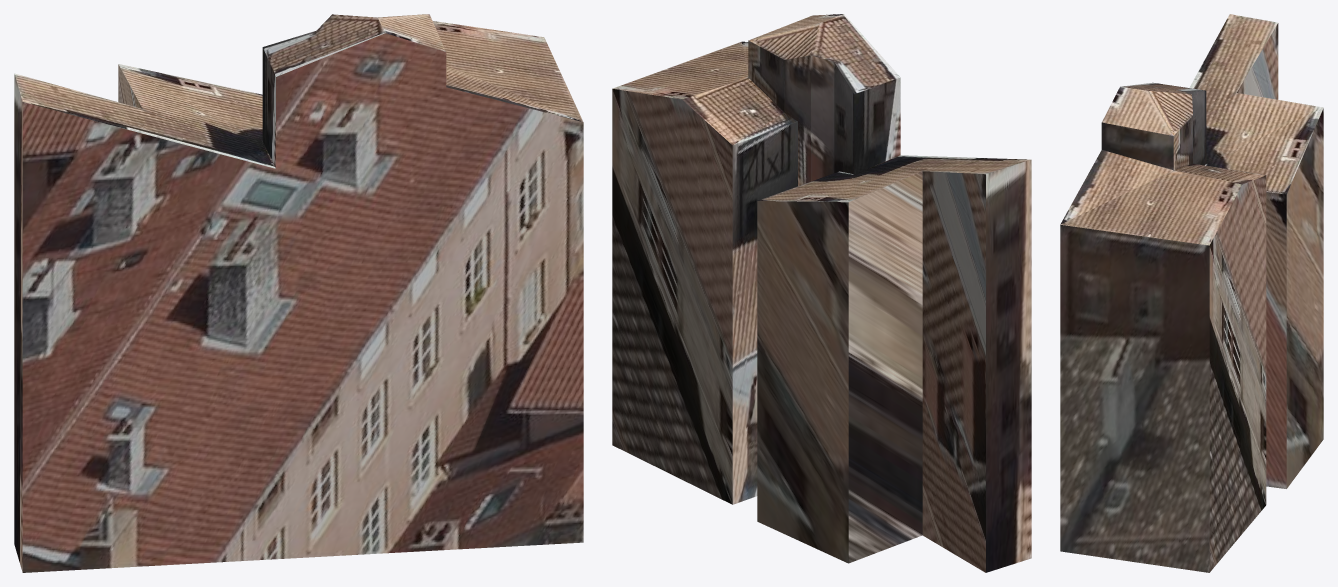
The picture shows the model from 3 angles, left to right: view 1: azimuth 30°, elevation 25°; view 2: azimuth 150°, elevation 25°; view 3: azimuth 270°, elevation 25°; orthographic projection. The views are drawn at different scales.
Parts seen in each view (by area): view 1: Z_UP; view 2: Z_UP; view 3: Z_UP.
Part boxes in pixels (x1,y1,x2,y2): Z_UP: (14,14,583,572); Z_UP: (612,14,1031,572); Z_UP: (1060,14,1323,572).
Bounding box in the file's own units: 21.13 × 20.65 × 12.2.
2 materials, 1 textured.
